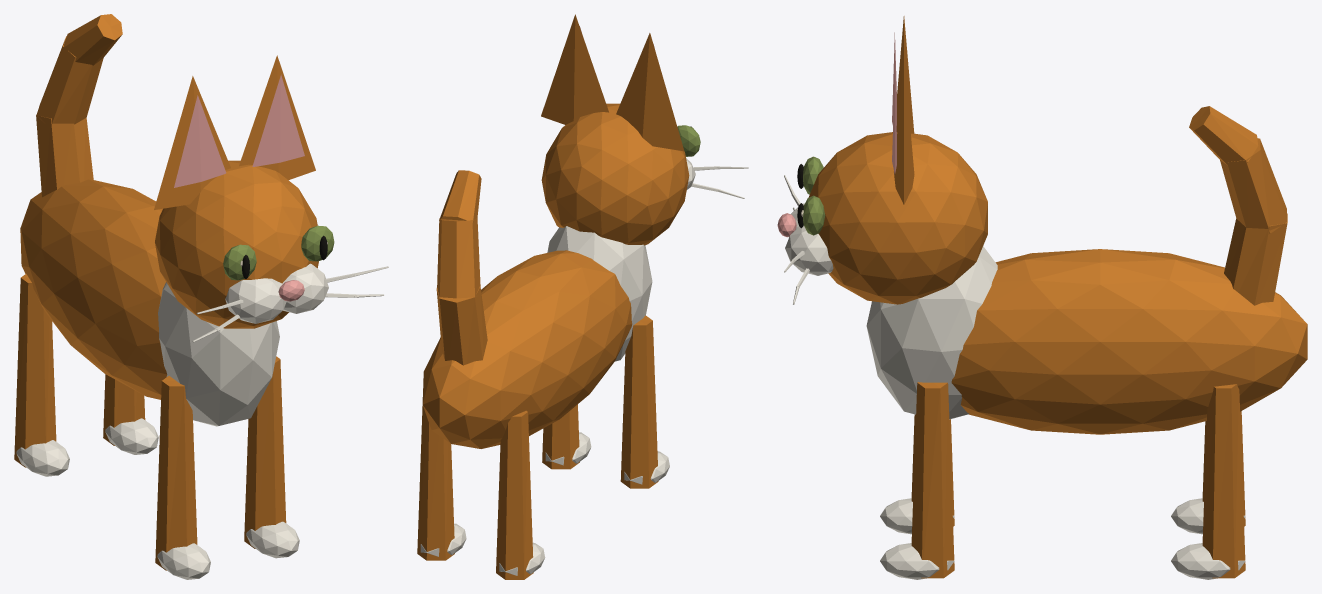
The model's file is low-poly-cat.glb.
The picture shows the model from 3 angles, left to right: view 1: azimuth 30°, elevation 25°; view 2: azimuth 150°, elevation 25°; view 3: azimuth 270°, elevation 25°; orthographic projection. The views are drawn at different scales.
Parts seen in each view (by area): view 1: cat-body-mesh, cat-head-mesh, cat-chest-mesh, cat-leg-front-left-shaft-mesh, cat-leg-rear-left-shaft-mesh, cat-leg-front-right-shaft-mesh, cat-tail-segment-1-mesh, cat-tail-segment-2-mesh, cat-ear-left-outer-mesh, cat-ear-right-outer-mesh, cat-ear-left-inner-mesh, cat-ear-right-inner-mesh (+10 smaller); view 2: cat-body-mesh, cat-head-mesh, cat-leg-front-left-shaft-mesh, cat-leg-rear-left-shaft-mesh, cat-leg-rear-right-shaft-mesh, cat-chest-mesh, cat-ear-left-outer-mesh, cat-ear-right-outer-mesh, cat-tail-segment-2-mesh, cat-tail-segment-1-mesh, cat-leg-front-right-shaft-mesh, cat-tail-segment-3-mesh (+5 smaller); view 3: cat-body-mesh, cat-head-mesh, cat-chest-mesh, cat-leg-front-right-shaft-mesh, cat-leg-rear-right-shaft-mesh, cat-tail-segment-1-mesh, cat-tail-segment-2-mesh, cat-tail-segment-3-mesh, cat-ear-right-outer-mesh, cat-cheek-right-mesh, cat-leg-front-right-foot-shape-mesh, cat-leg-rear-right-foot-shape-mesh (+4 smaller).
Part boxes in pixels (x1=…): cat-body-mesh: x1=20, y1=179, x2=167, y2=399; cat-head-mesh: x1=155, y1=160, x2=318, y2=328; cat-chest-mesh: x1=158, y1=282, x2=279, y2=426; cat-leg-front-left-shaft-mesh: x1=155, y1=376, x2=197, y2=570; cat-leg-rear-left-shaft-mesh: x1=14, y1=274, x2=56, y2=467; cat-leg-front-right-shaft-mesh: x1=244, y1=356, x2=286, y2=548; cat-tail-segment-1-mesh: x1=36, y1=115, x2=93, y2=197; cat-tail-segment-2-mesh: x1=36, y1=36, x2=103, y2=124; cat-ear-left-outer-mesh: x1=154, y1=76, x2=230, y2=209; cat-ear-right-outer-mesh: x1=239, y1=55, x2=315, y2=180; cat-ear-left-inner-mesh: x1=174, y1=95, x2=226, y2=187; cat-ear-right-inner-mesh: x1=252, y1=74, x2=304, y2=166; cat-body-mesh: x1=422, y1=250, x2=632, y2=448; cat-head-mesh: x1=541, y1=103, x2=689, y2=245; cat-leg-front-left-shaft-mesh: x1=620, y1=315, x2=658, y2=488; cat-leg-rear-left-shaft-mesh: x1=496, y1=410, x2=533, y2=579; cat-leg-rear-right-shaft-mesh: x1=417, y1=397, x2=454, y2=560; cat-chest-mesh: x1=547, y1=226, x2=652, y2=361; cat-ear-left-outer-mesh: x1=616, y1=33, x2=684, y2=151; cat-ear-right-outer-mesh: x1=541, y1=14, x2=608, y2=124; cat-tail-segment-2-mesh: x1=437, y1=218, x2=480, y2=298; cat-tail-segment-1-mesh: x1=436, y1=286, x2=487, y2=365; cat-leg-front-right-shaft-mesh: x1=542, y1=404, x2=579, y2=469; cat-tail-segment-3-mesh: x1=439, y1=170, x2=481, y2=222; cat-body-mesh: x1=951, y1=249, x2=1307, y2=434; cat-head-mesh: x1=808, y1=132, x2=987, y2=304; cat-chest-mesh: x1=866, y1=246, x2=997, y2=419; cat-leg-front-right-shaft-mesh: x1=911, y1=382, x2=954, y2=578; cat-leg-rear-right-shaft-mesh: x1=1202, y1=384, x2=1245, y2=578; cat-tail-segment-1-mesh: x1=1224, y1=213, x2=1287, y2=305; cat-tail-segment-2-mesh: x1=1220, y1=138, x2=1287, y2=233; cat-tail-segment-3-mesh: x1=1189, y1=106, x2=1258, y2=164; cat-ear-right-outer-mesh: x1=894, y1=58, x2=914, y2=204; cat-cheek-right-mesh: x1=785, y1=225, x2=833, y2=275; cat-leg-front-right-foot-shape-mesh: x1=880, y1=543, x2=954, y2=579; cat-leg-rear-right-foot-shape-mesh: x1=1171, y1=543, x2=1245, y2=579.
Size of the model in its own units: 0.397 by 0.9974 by 0.9224.
